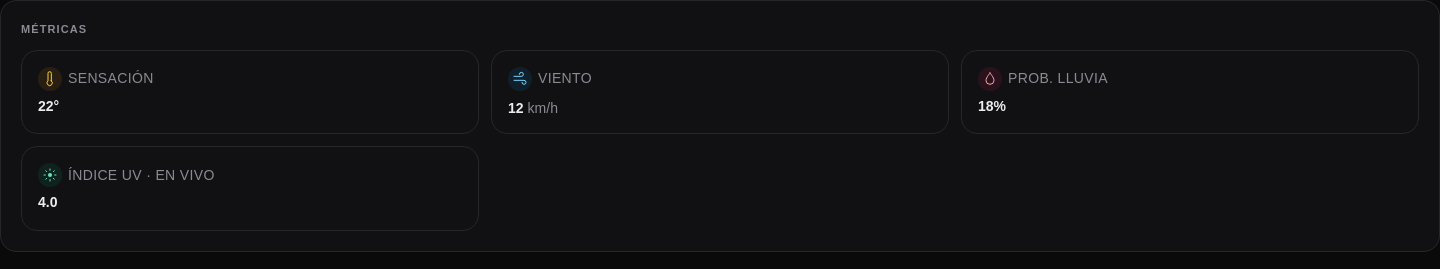
Scenario: AirConditionsGrid › renders the "Total hoy" tile with the daily mm when sum is present
Step 1. Click the button "Prob. lluvia 18%" → point(1058, 78), box [961,50,1419,134]
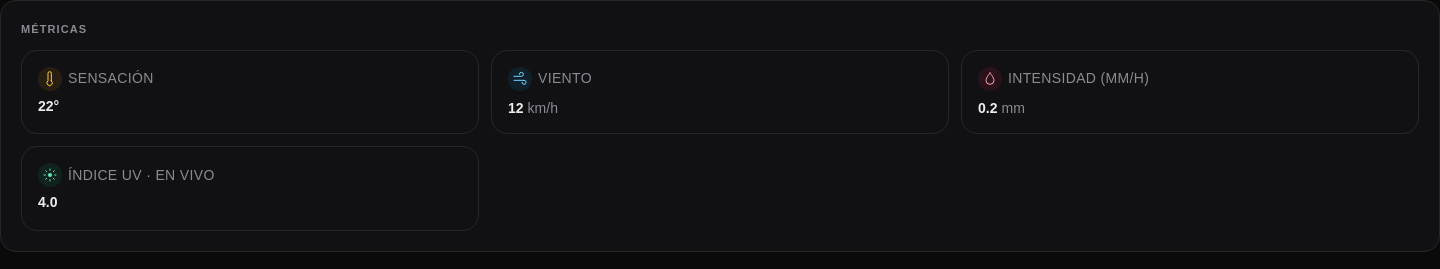
Step 2. Click the button "Intensidad (mm/h) 0.2 mm" → point(1079, 78), box [961,50,1419,134]
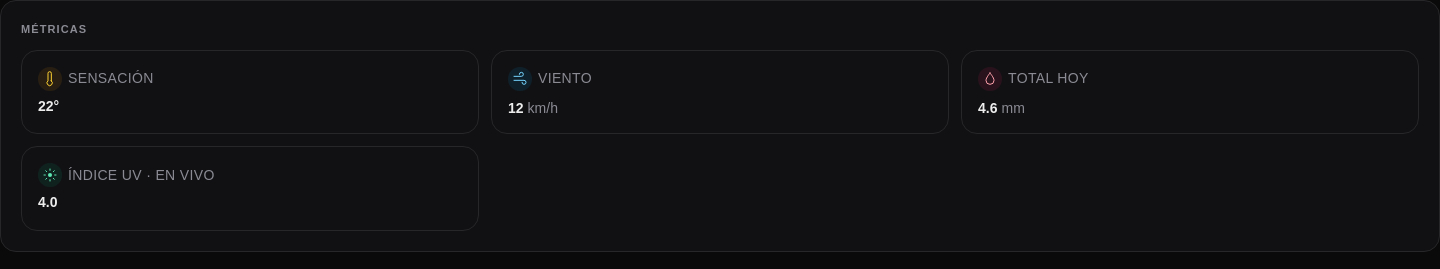
Now the text "Total hoy" is shown, box [1008,68,1089,89]
Now the text "4.6" is shown, box [978,100,998,114]
